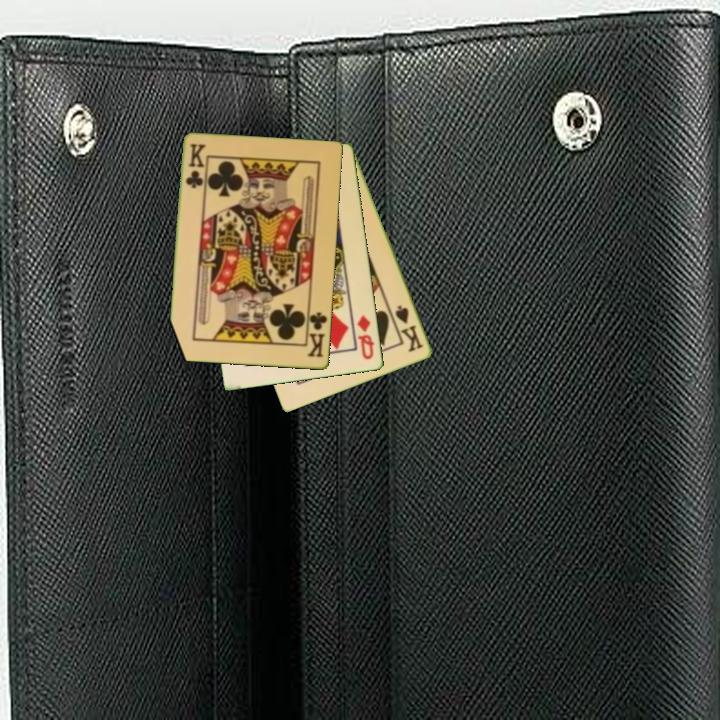Kc: (304, 306, 330, 360), (182, 140, 207, 192)
Ks: (392, 302, 427, 355)
Qd: (354, 312, 378, 363)
